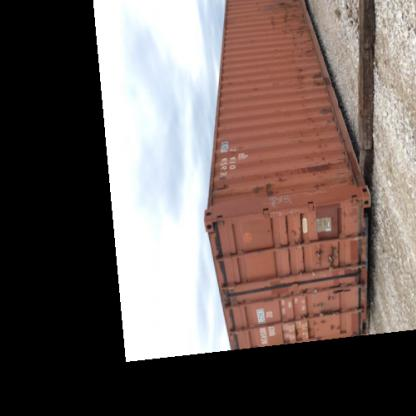Damage: (268, 1, 308, 41), (290, 157, 332, 189), (247, 172, 279, 202), (306, 98, 328, 132), (293, 66, 323, 86)
